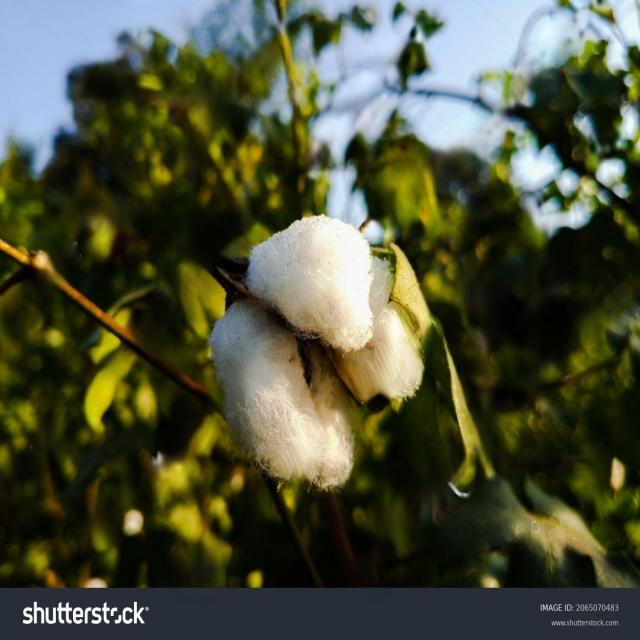Leaf: (189, 193, 445, 505)
